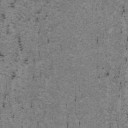oxide scale of temperature system: (0, 0, 54, 118), (104, 71, 128, 114), (118, 4, 126, 34), (96, 37, 99, 46)
